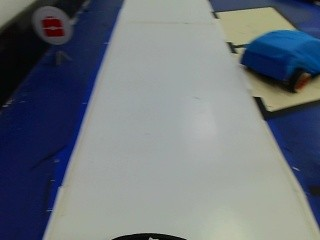company: (33, 9, 75, 49)
